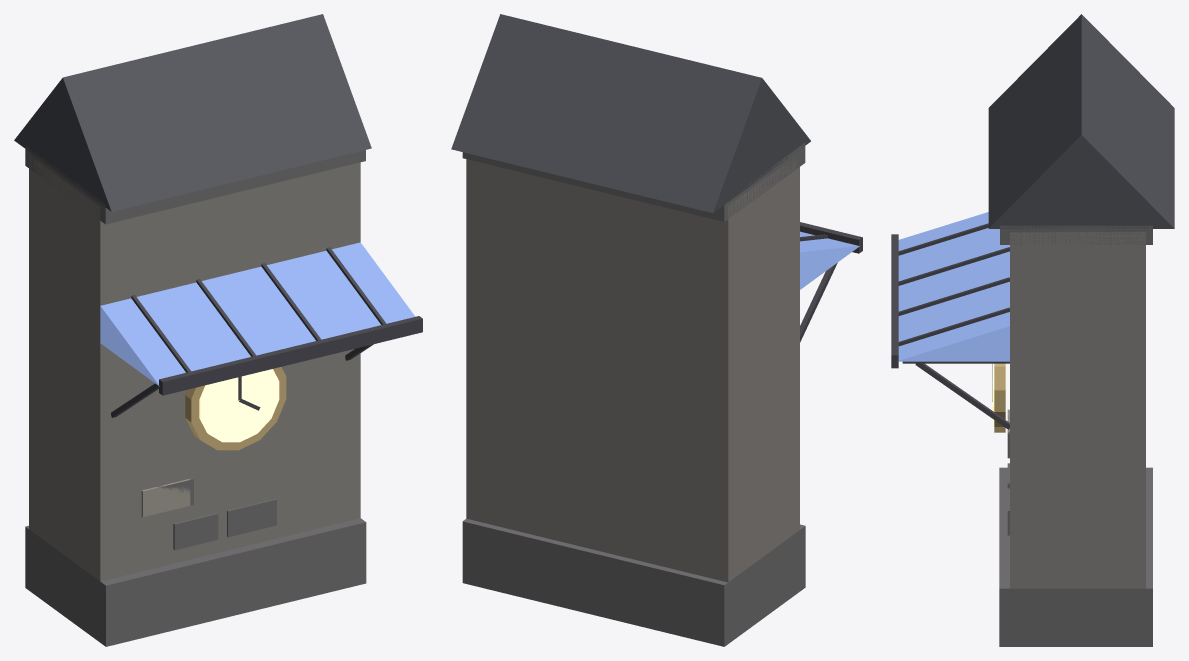
Rendered from station_clock.glb.
3 views of the same model, side by side, from view 1: azimuth 30°, elevation 25°; view 2: azimuth 150°, elevation 25°; view 3: azimuth 270°, elevation 25° (orthographic). The views are drawn at different scales.
Visible parts, largest first — view 1: Upper, Plinth; view 2: Upper, Plinth; view 3: Upper, Plinth.
Part boxes in pixels (x1,y1,x2,y2): Upper: [14, 14, 422, 581]; Plinth: [25, 518, 366, 646]; Upper: [451, 14, 862, 582]; Plinth: [462, 518, 805, 646]; Upper: [891, 14, 1174, 588]; Plinth: [999, 467, 1152, 646].
Bounding box in the file's own units: 4 × 7.9 × 3.96.
